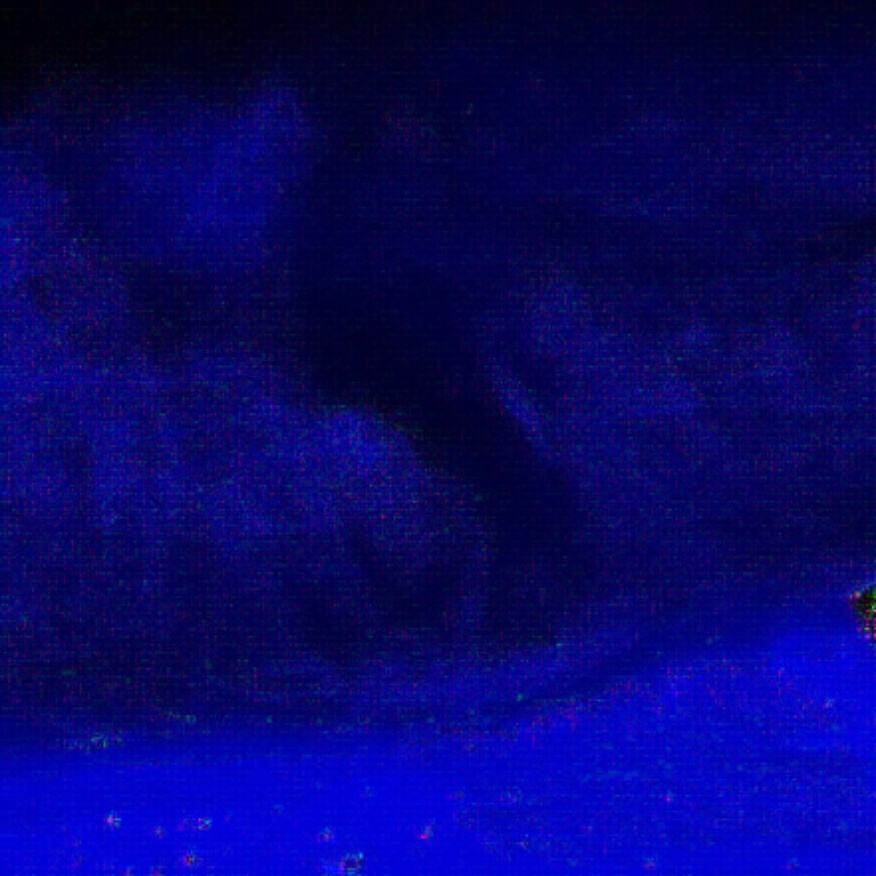rip_current: (248, 210, 597, 634)
